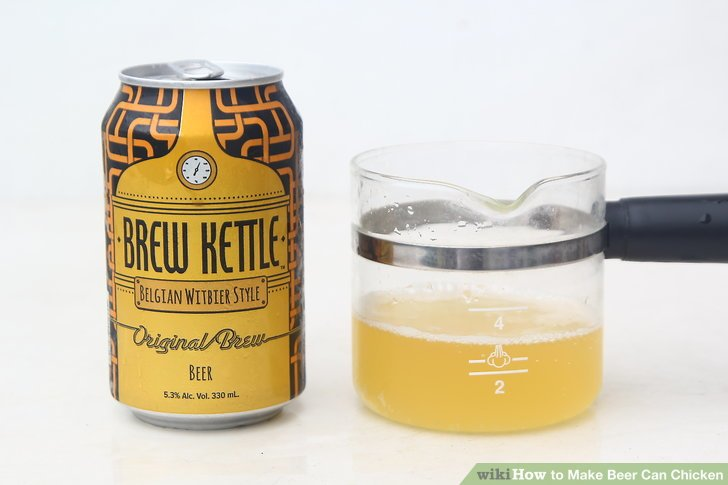beer can: (101, 61, 308, 428)
